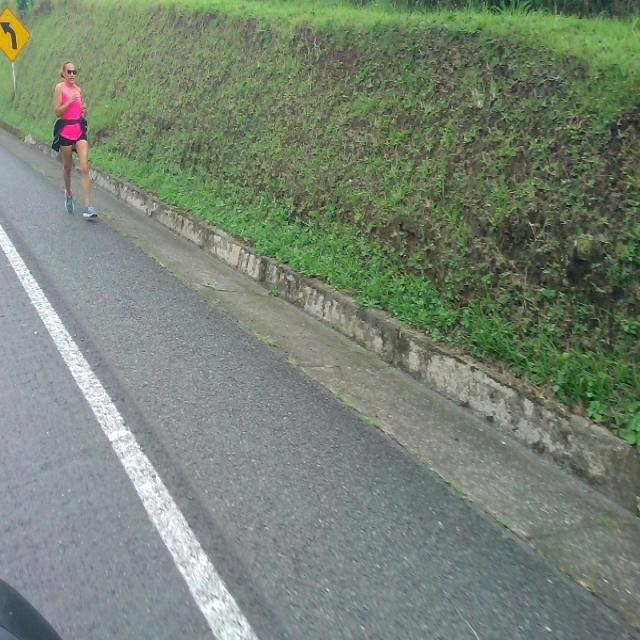DITCH: (1, 127, 639, 638)
